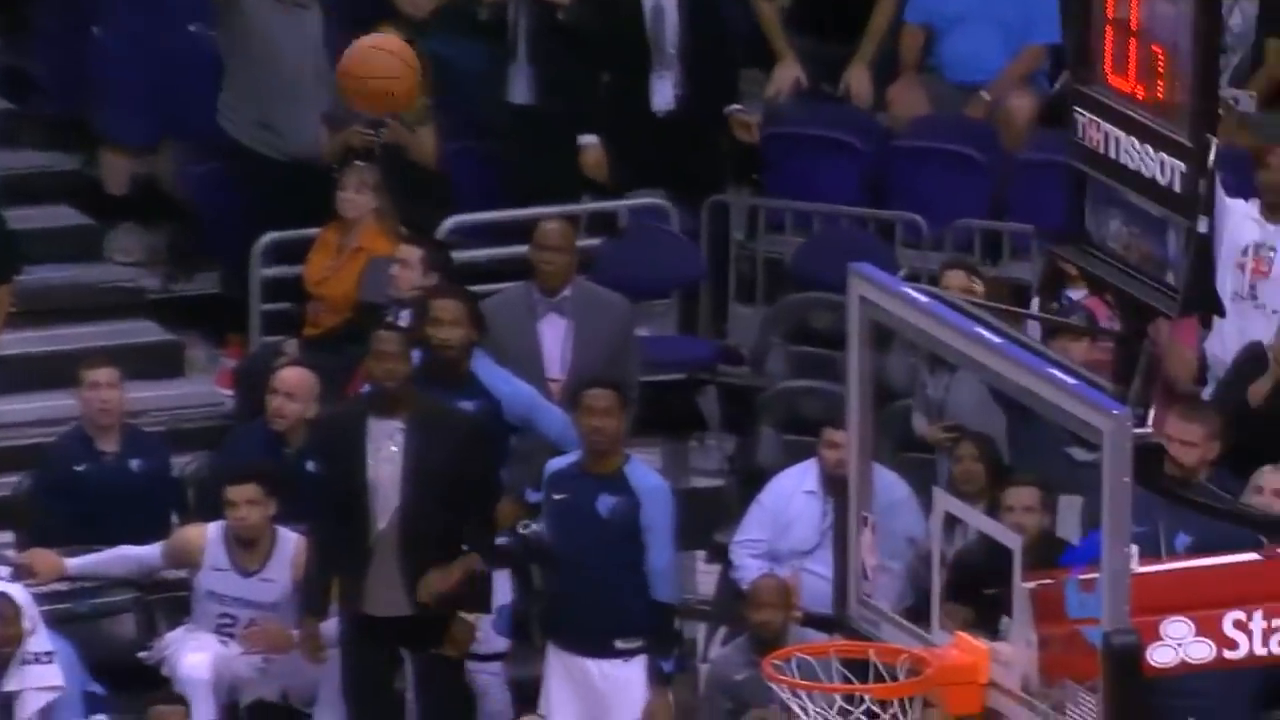ball: (332, 30, 429, 116)
